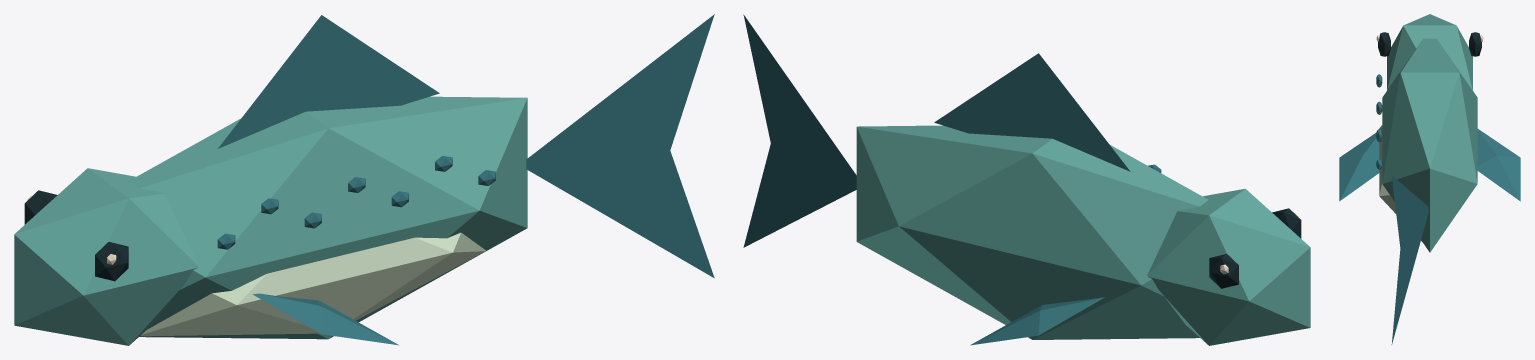
The model's file is river_fish.glb.
3 renders of one model, left to right at view 1: azimuth 30°, elevation 25°; view 2: azimuth 150°, elevation 25°; view 3: azimuth 270°, elevation 25°, orthographic. The views are drawn at different scales.
Visible parts, largest first — view 1: river_fish_Mesh, Tail_Mesh; view 2: river_fish_Mesh, Tail_Mesh; view 3: river_fish_Mesh, Tail_Mesh.
Boxes of the visible parts, <box> form: river_fish_Mesh: <box>14,15,527,345</box>; Tail_Mesh: <box>526,14,714,278</box>; river_fish_Mesh: <box>856,53,1310,345</box>; Tail_Mesh: <box>743,14,856,247</box>; river_fish_Mesh: <box>1339,14,1520,252</box>; Tail_Mesh: <box>1391,175,1428,344</box>.
Bounding box in the file's own units: 0.8493 × 0.4 × 0.308.
